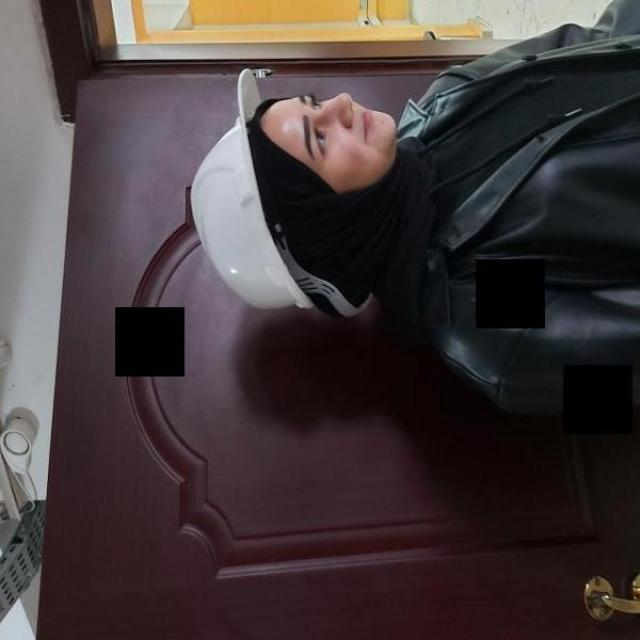white helmet: (191, 79, 316, 336)
